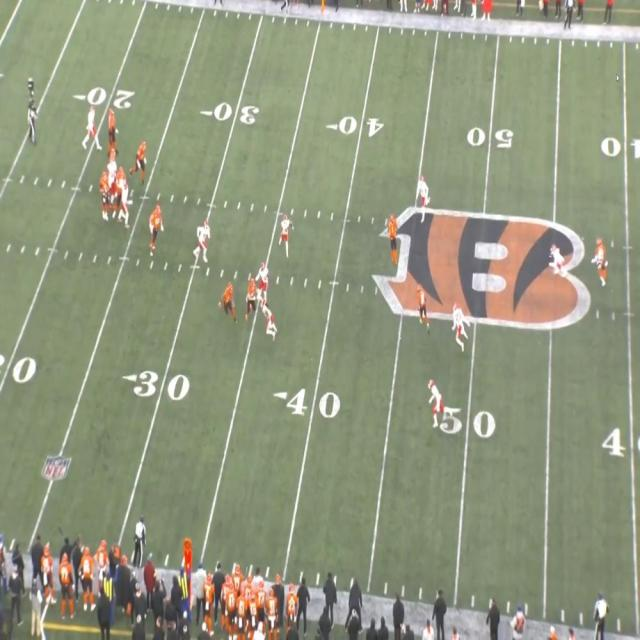db: (427, 381, 442, 429), (452, 304, 466, 348), (419, 179, 431, 218), (278, 216, 290, 250), (552, 240, 560, 276)
lb: (260, 262, 270, 306), (264, 306, 273, 338)
qb: (98, 174, 111, 214)
skill: (388, 213, 400, 264), (416, 285, 429, 328), (596, 240, 608, 286), (224, 285, 236, 317), (246, 278, 256, 316)
